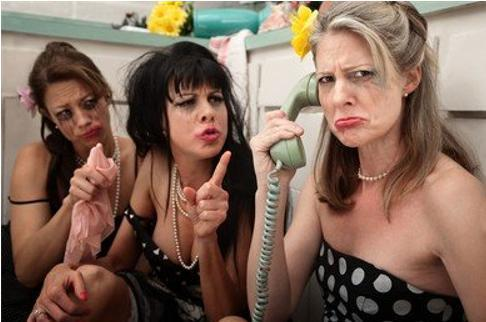Drunk: (315, 35, 396, 142), (167, 81, 229, 152), (45, 83, 109, 144)
